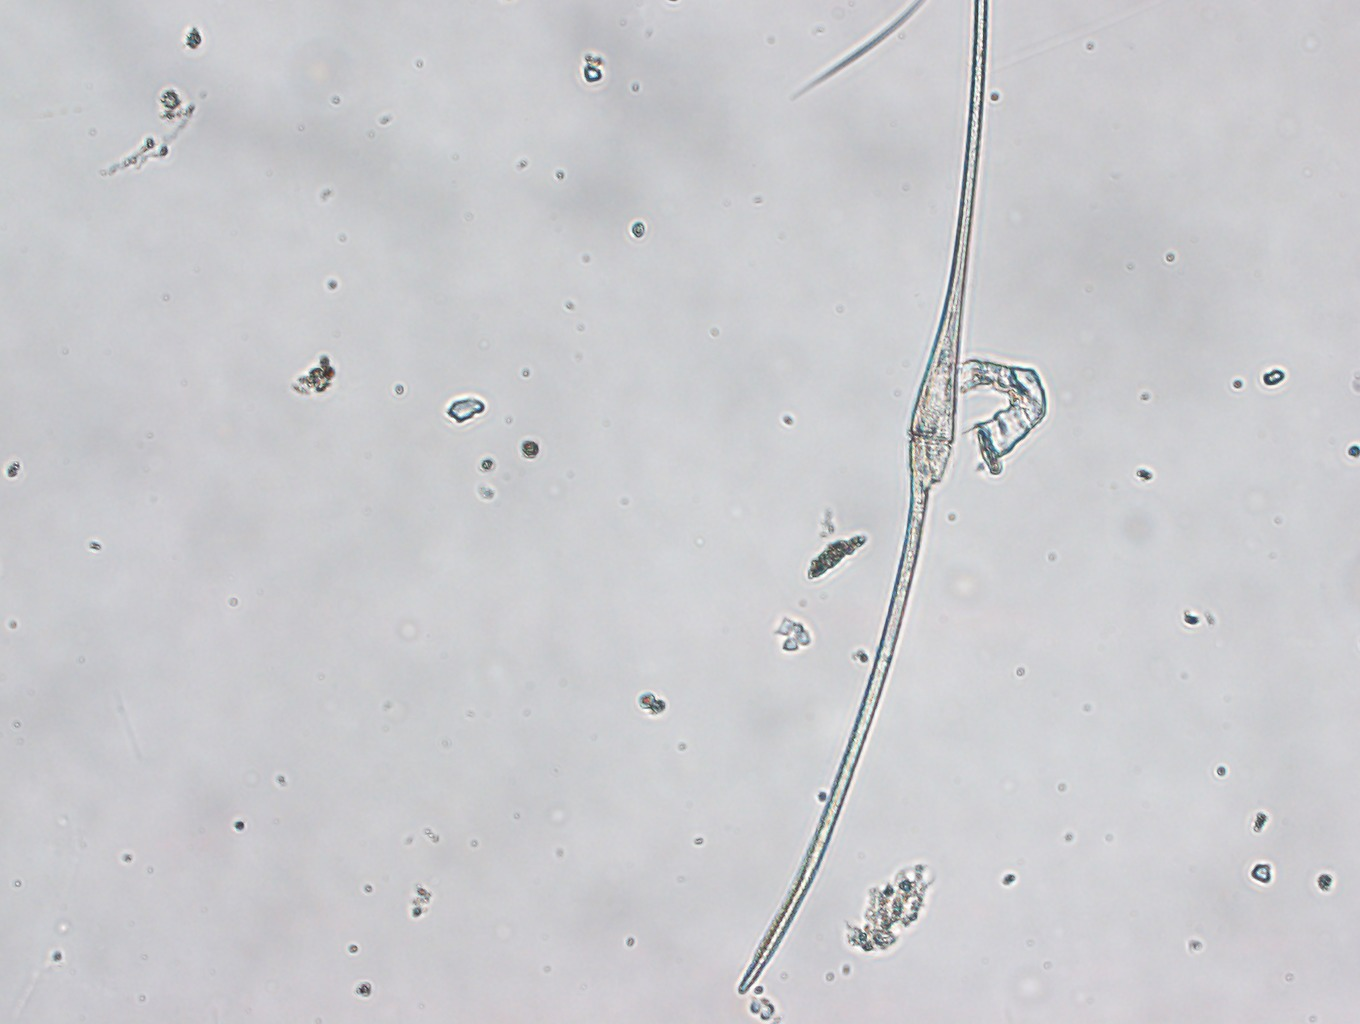ceratium fusus: (729, 8, 997, 998)
